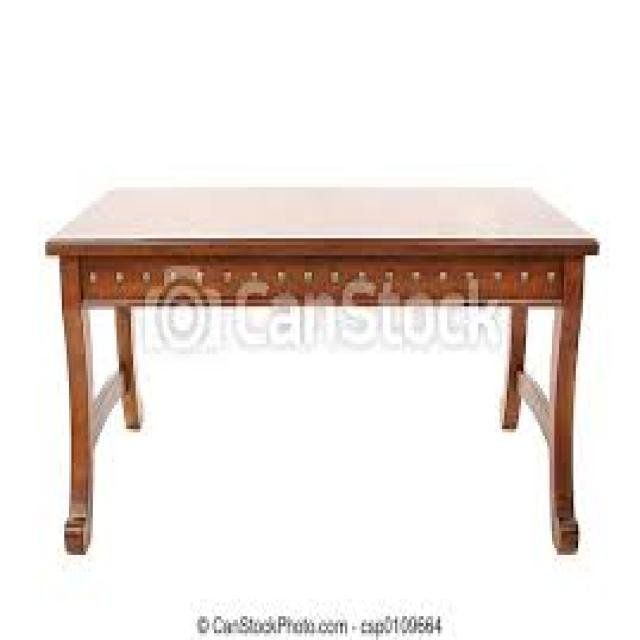obstacle: (40, 117, 612, 520)
